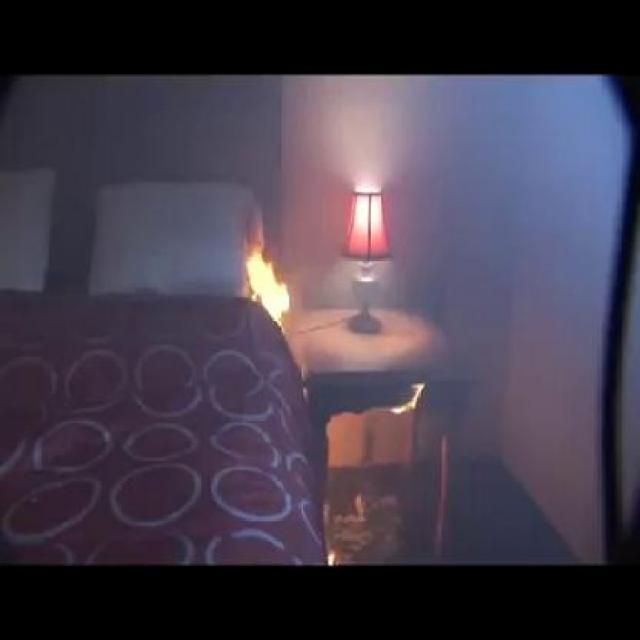fire: (231, 230, 307, 332)
